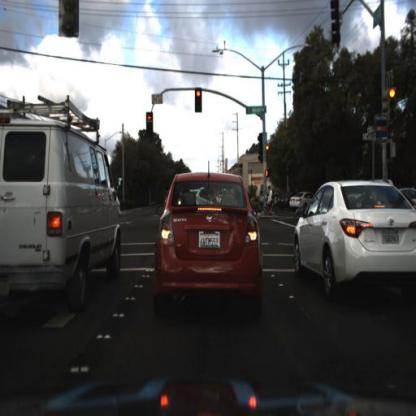biker: (263, 181, 276, 225), (263, 183, 274, 224)
car: (1, 85, 134, 322), (153, 169, 263, 309), (295, 181, 416, 289), (290, 188, 314, 212)
trafficLight-Red: (388, 88, 400, 122), (387, 86, 396, 104), (196, 90, 203, 113), (264, 142, 272, 159)
trafficLight-RedLeft: (145, 111, 153, 141), (146, 112, 153, 128)
truck: (1, 117, 124, 302)
